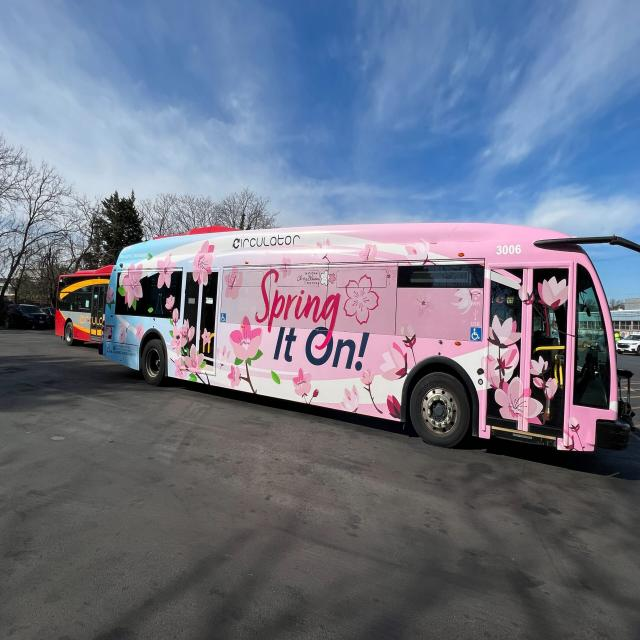bus: (105, 228, 630, 482)
